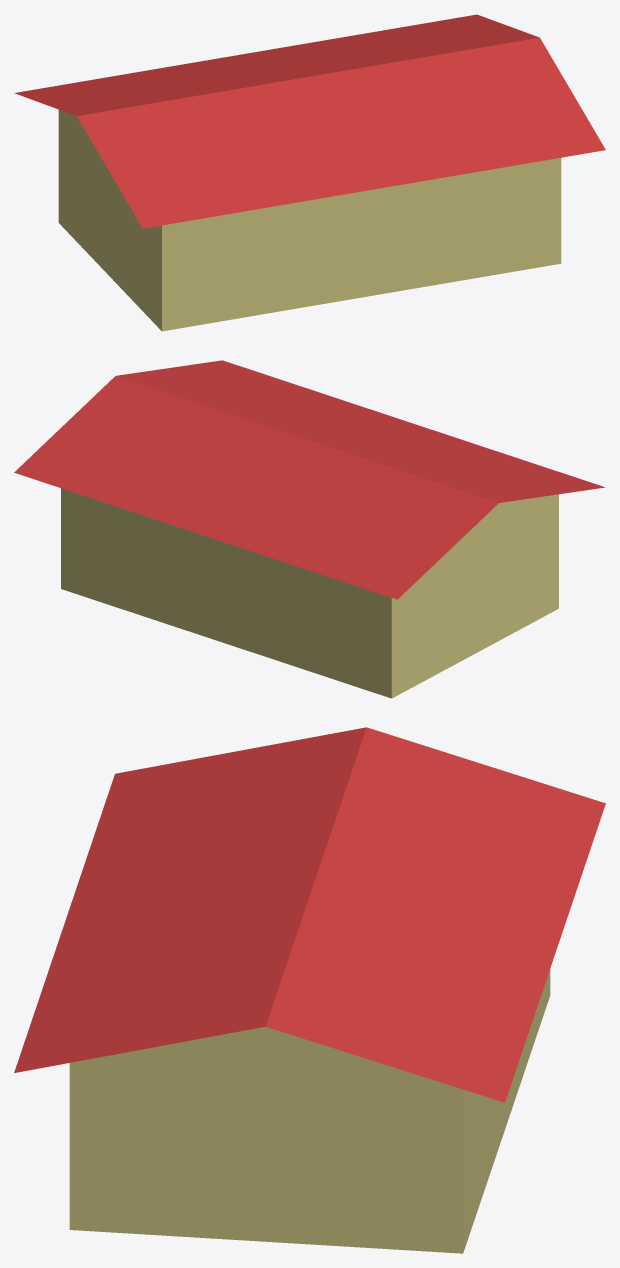
3 renders of one model, top to bottom at view 1: azimuth 30°, elevation 25°; view 2: azimuth 150°, elevation 25°; view 3: azimuth 270°, elevation 25°, orthographic. The views are drawn at different scales.
Bounding box in the file's own units: 31.63 × 24.06 × 10.58.
